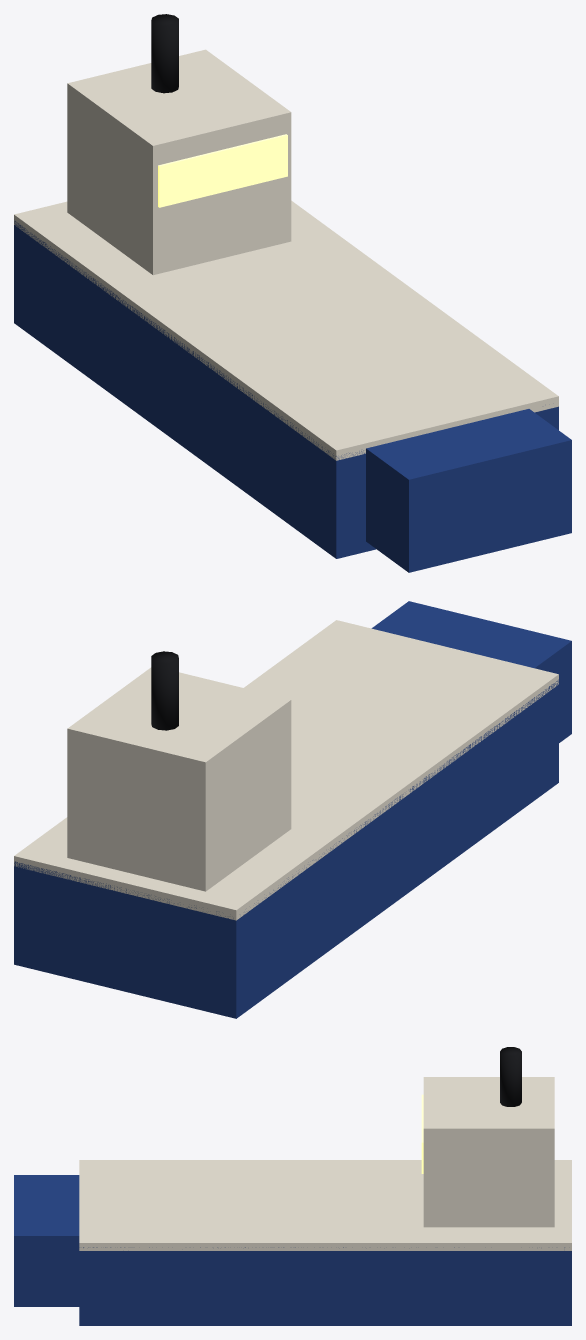
Rendered from cp_boat.glb.
The picture shows the model from 3 angles, top to bottom: view 1: azimuth 30°, elevation 25°; view 2: azimuth 150°, elevation 25°; view 3: azimuth 270°, elevation 25°; orthographic projection. The views are drawn at different scales.
Parts seen in each view (by area): view 1: city_cp_boat; view 2: city_cp_boat; view 3: city_cp_boat.
Boxes of the visible parts, box(x1,y1,x2,y2) form: city_cp_boat: box(14, 14, 571, 572); city_cp_boat: box(14, 601, 571, 1018); city_cp_boat: box(14, 1047, 571, 1325).
Bounding box in the file's own units: 4.5 × 5.9 × 12.8.
2 materials, 2 textured.
